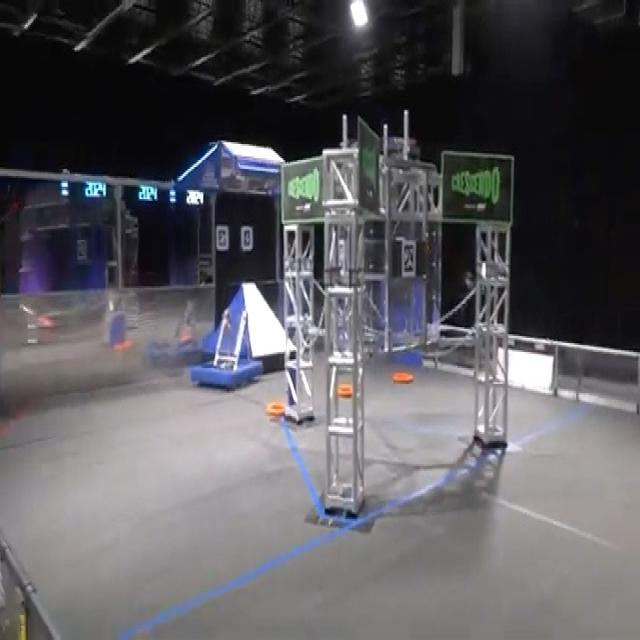note: (266, 401, 284, 416), (336, 382, 352, 398), (392, 371, 413, 383)
robot: (190, 306, 263, 389)
